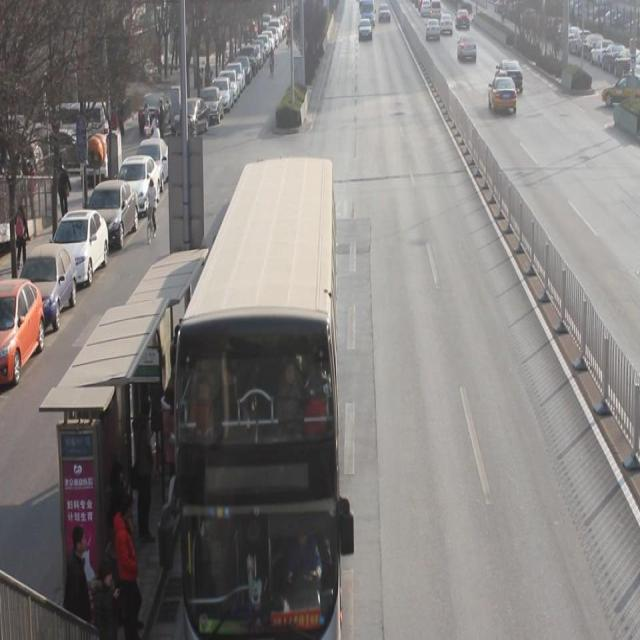car: (601, 70, 640, 110), (488, 70, 518, 116), (497, 59, 524, 94), (457, 34, 478, 66), (357, 17, 373, 42), (455, 7, 470, 31), (426, 19, 441, 43), (440, 11, 454, 36), (378, 1, 391, 24), (421, 1, 431, 19)
truck: (431, 1, 441, 20)
van: (176, 153, 342, 640)
